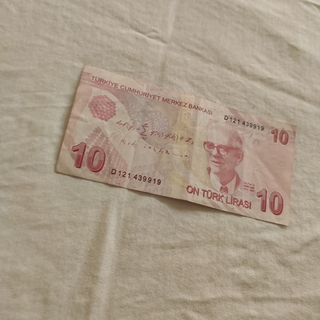10TLBack: (54, 64, 294, 226)
